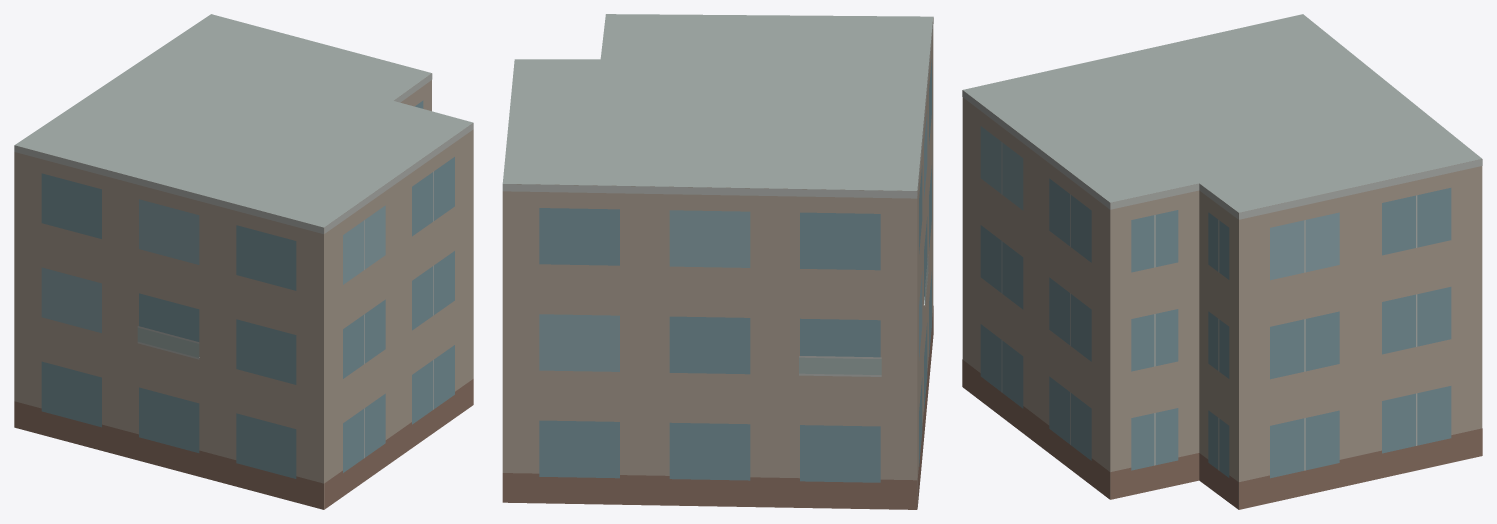
The model's file is survey-upis-32832403.glb.
3 views of the same model, side by side, from view 1: azimuth 30°, elevation 25°; view 2: azimuth 150°, elevation 25°; view 3: azimuth 270°, elevation 25° (orthographic). The views are drawn at different scales.
Parts seen in each view (by area): view 1: survey-upis-32832403.tmp; view 2: survey-upis-32832403.tmp; view 3: survey-upis-32832403.tmp.
Boxes of the visible parts, x1,y1,x2,y2 form: survey-upis-32832403.tmp: [14, 14, 473, 509]; survey-upis-32832403.tmp: [502, 14, 933, 509]; survey-upis-32832403.tmp: [962, 14, 1482, 509].
Bounding box in the file's own units: 14.79 × 10.3 × 16.35.
